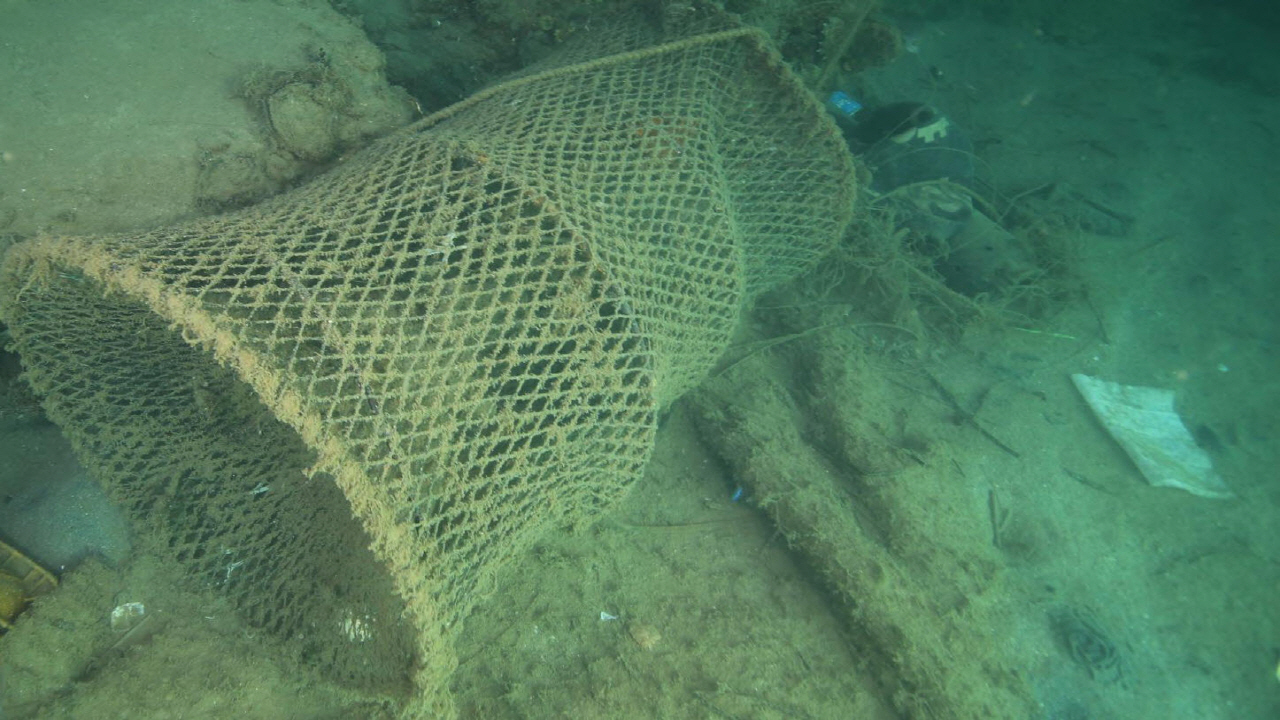spring fish trap: (0, 8, 856, 719)
